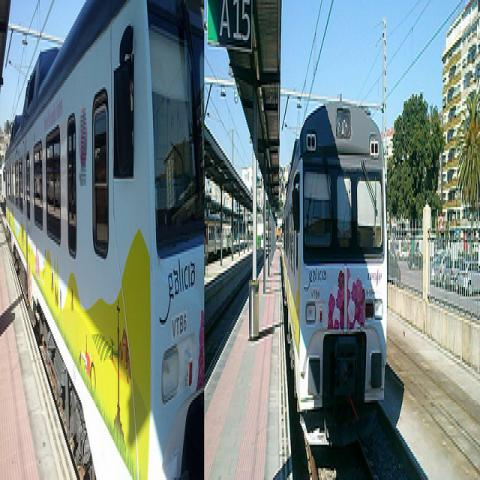car: (463, 260, 479, 298), (439, 254, 455, 290), (430, 250, 443, 286), (408, 248, 423, 270)
